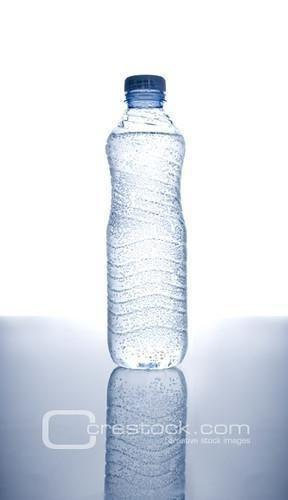bottle-plastic: (104, 71, 191, 367)
